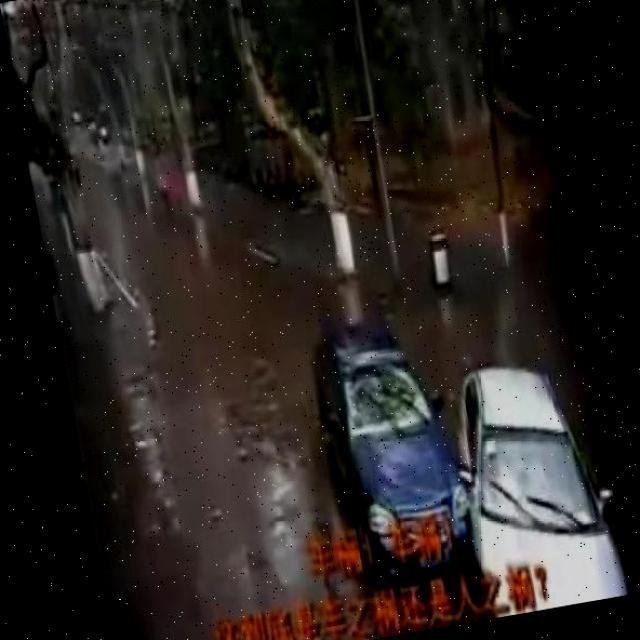accident: (293, 279, 628, 640)
